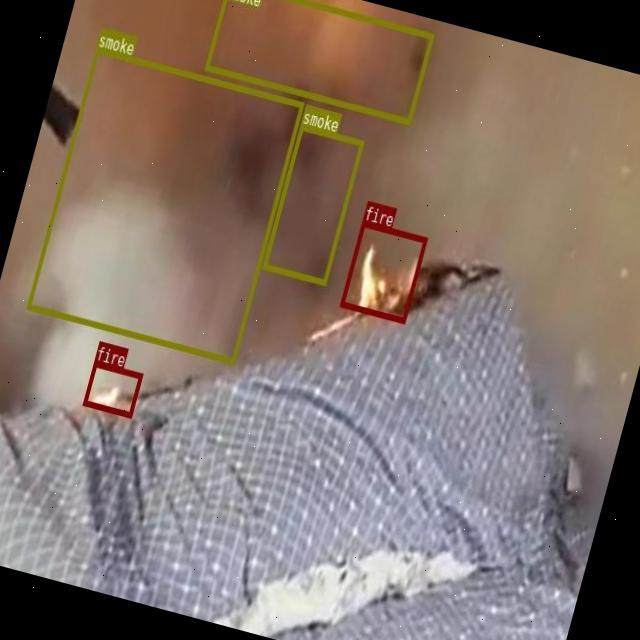fire: (339, 220, 426, 322), (81, 359, 142, 416)
smoke: (26, 46, 304, 363), (204, 0, 433, 123), (260, 123, 364, 285)
